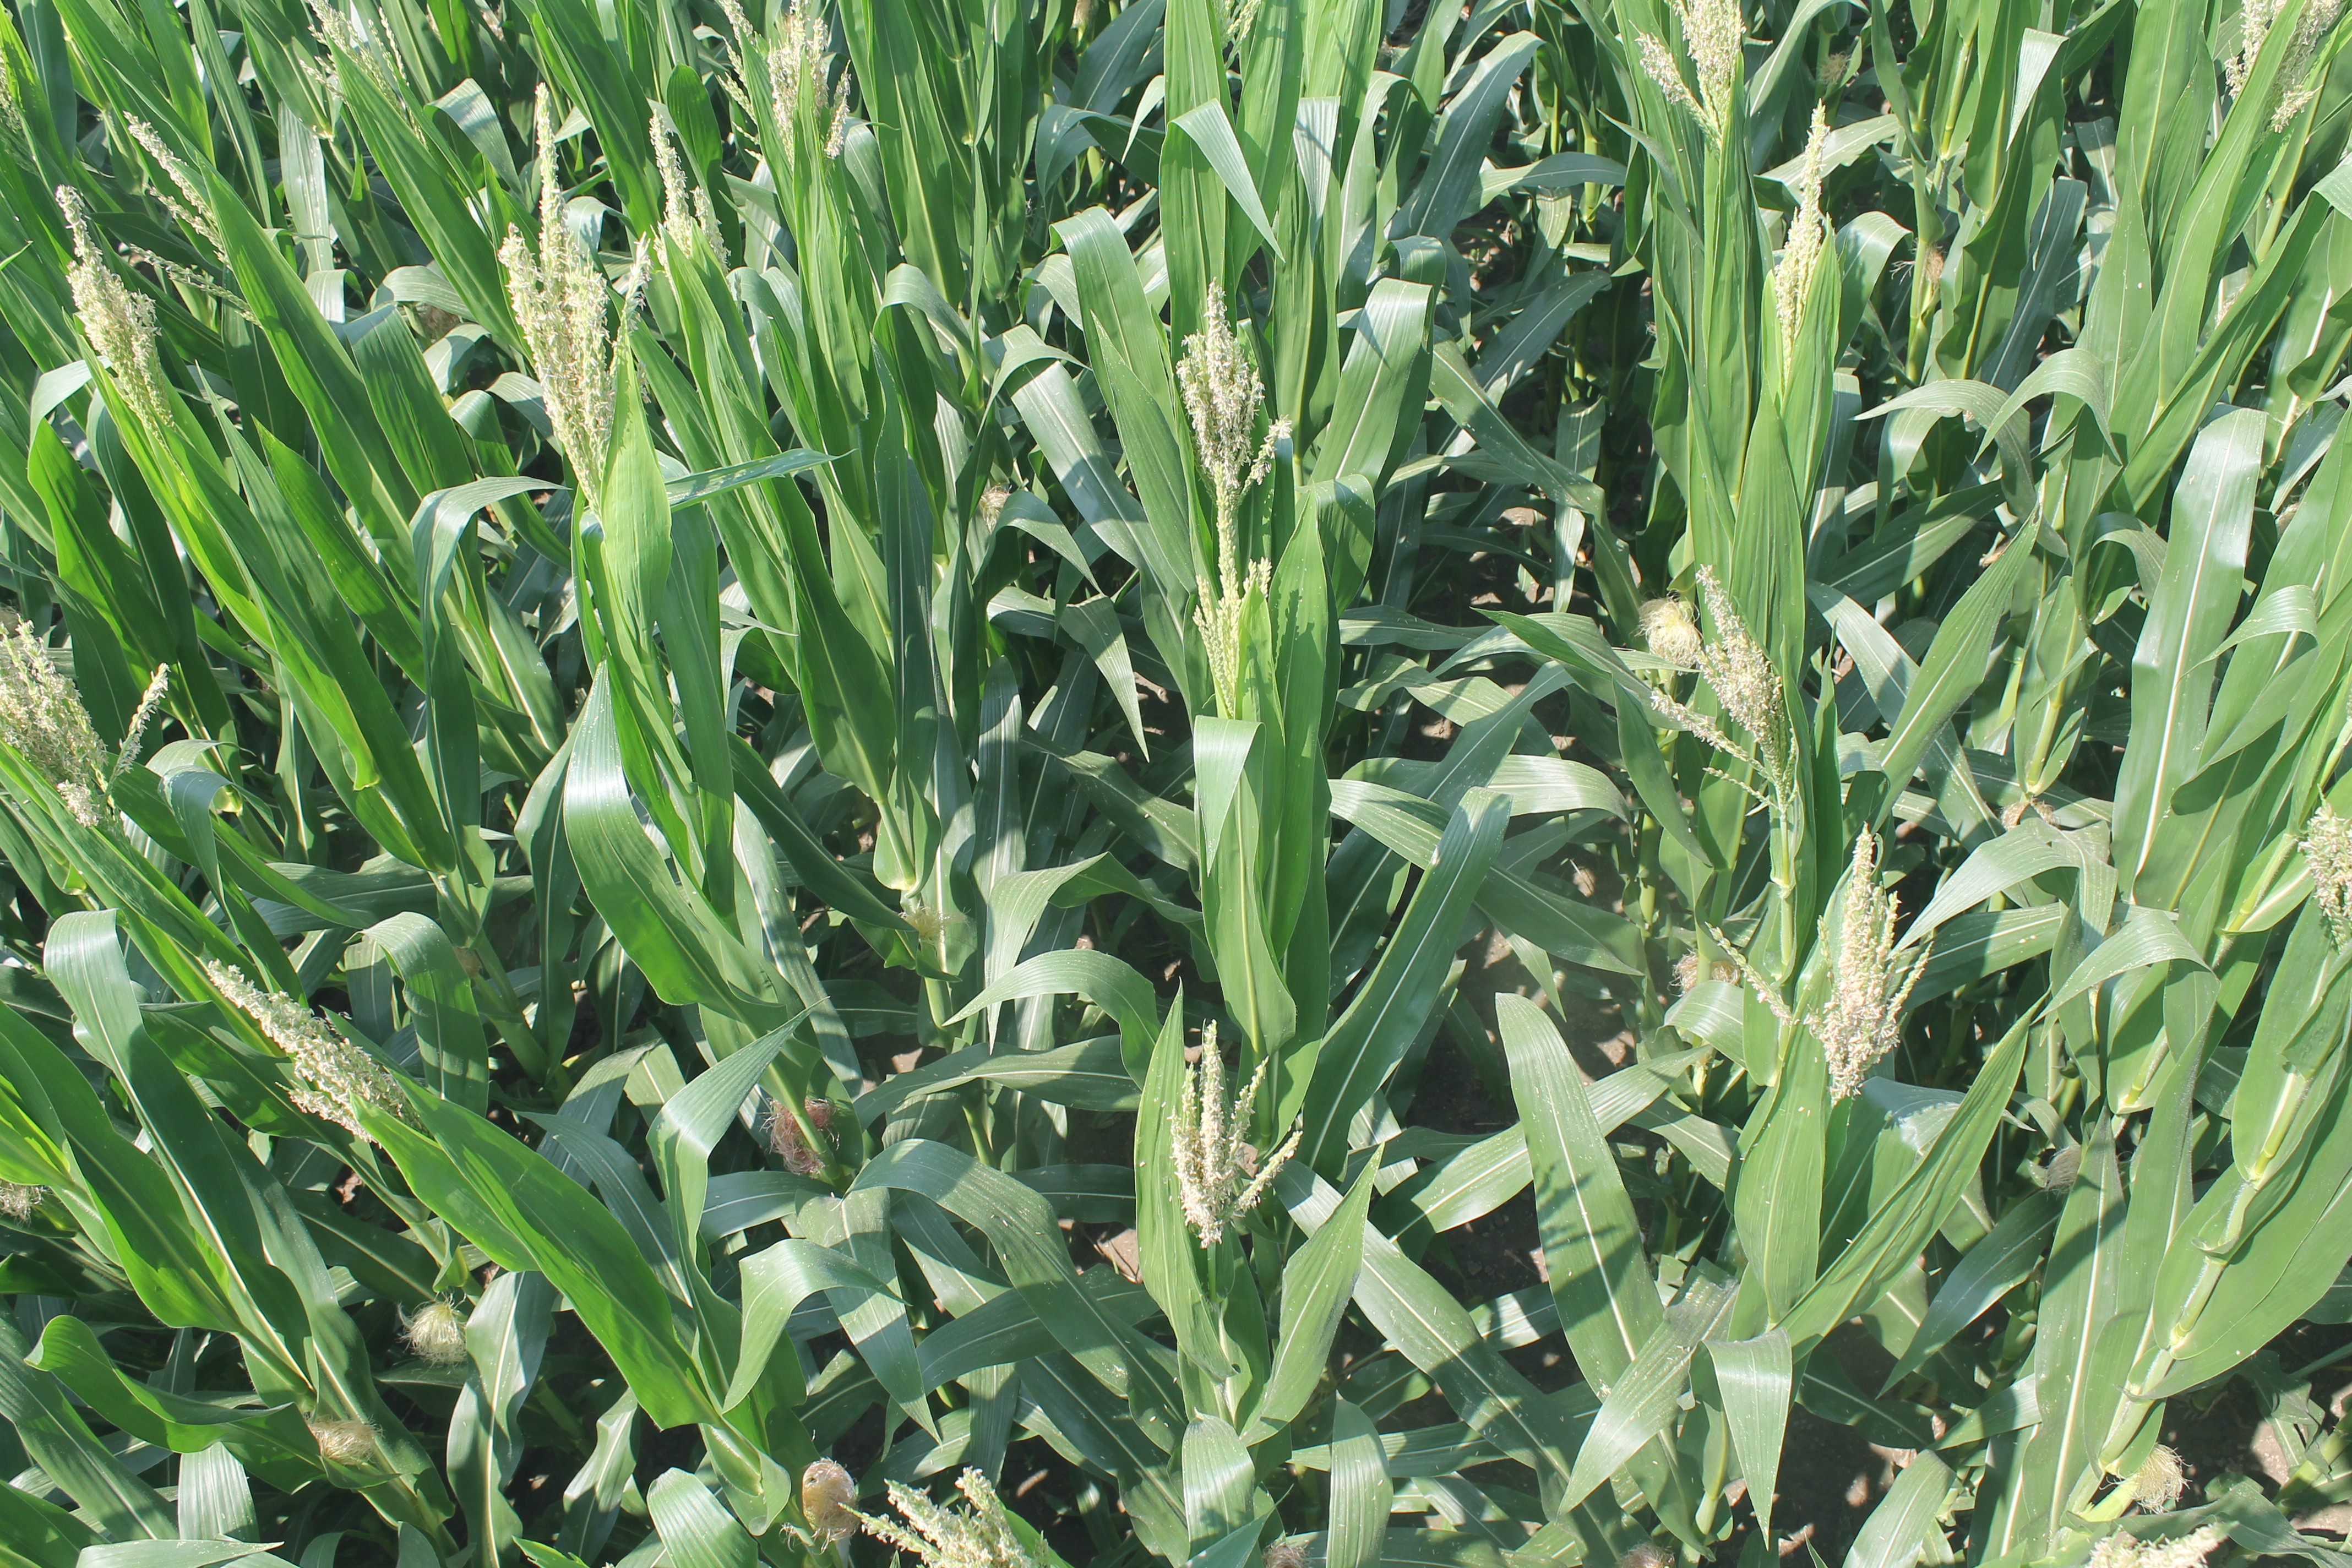Maize: (476, 93, 632, 490), (206, 931, 397, 1181), (1732, 843, 1923, 1085), (3, 602, 191, 824), (1144, 1015, 1307, 1269), (1636, 574, 1804, 819), (1148, 283, 1304, 497), (1157, 521, 1307, 728), (47, 184, 143, 434), (838, 1451, 1022, 1568), (747, 0, 863, 180), (1624, 0, 1767, 143), (1776, 105, 1851, 367), (644, 108, 751, 287), (2224, 0, 2352, 149), (150, 96, 238, 275), (2070, 1503, 2240, 1568)
